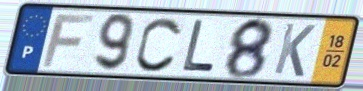8: (224, 15, 277, 81)
9: (92, 12, 137, 73)
C: (133, 15, 185, 75)
F: (39, 13, 97, 69)
K: (271, 21, 318, 80)
L: (180, 18, 218, 75)
